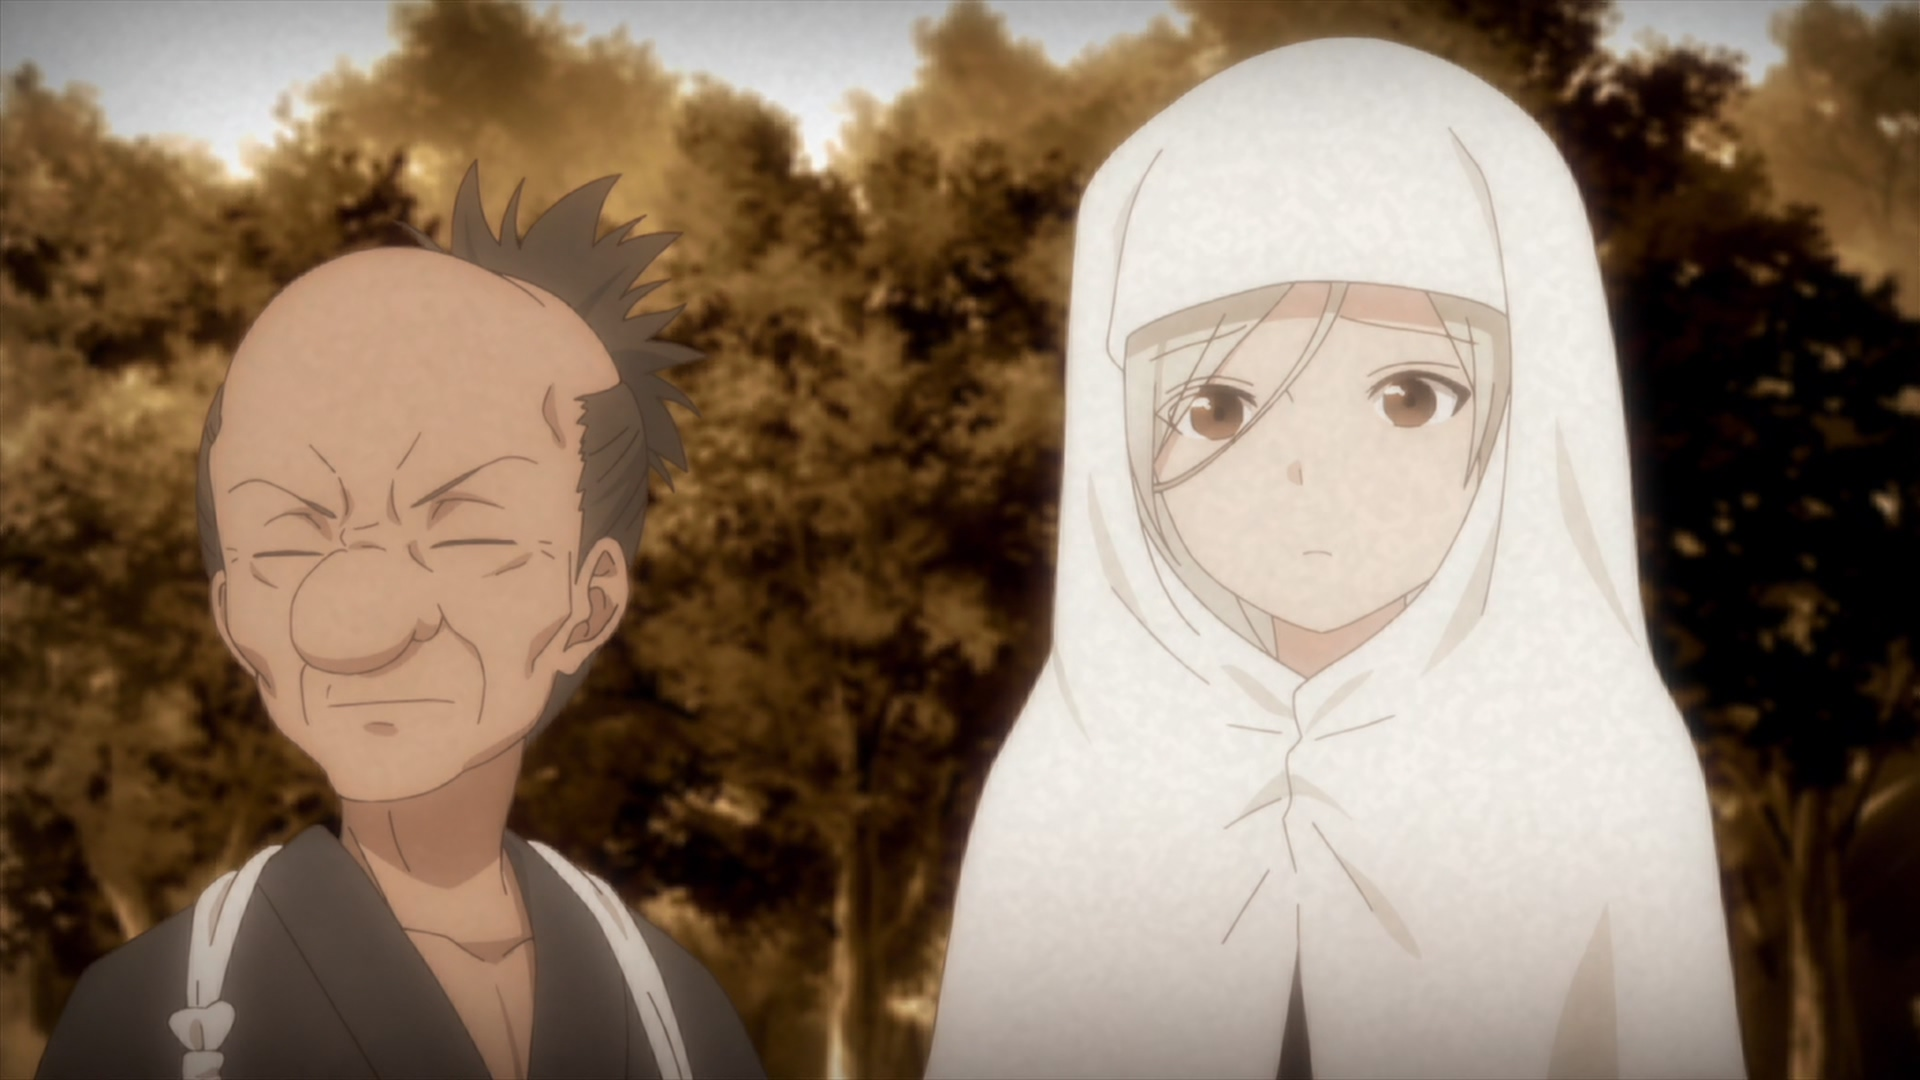八百比丘尼: (923, 36, 1745, 1080)
其他: (37, 160, 769, 1080)
